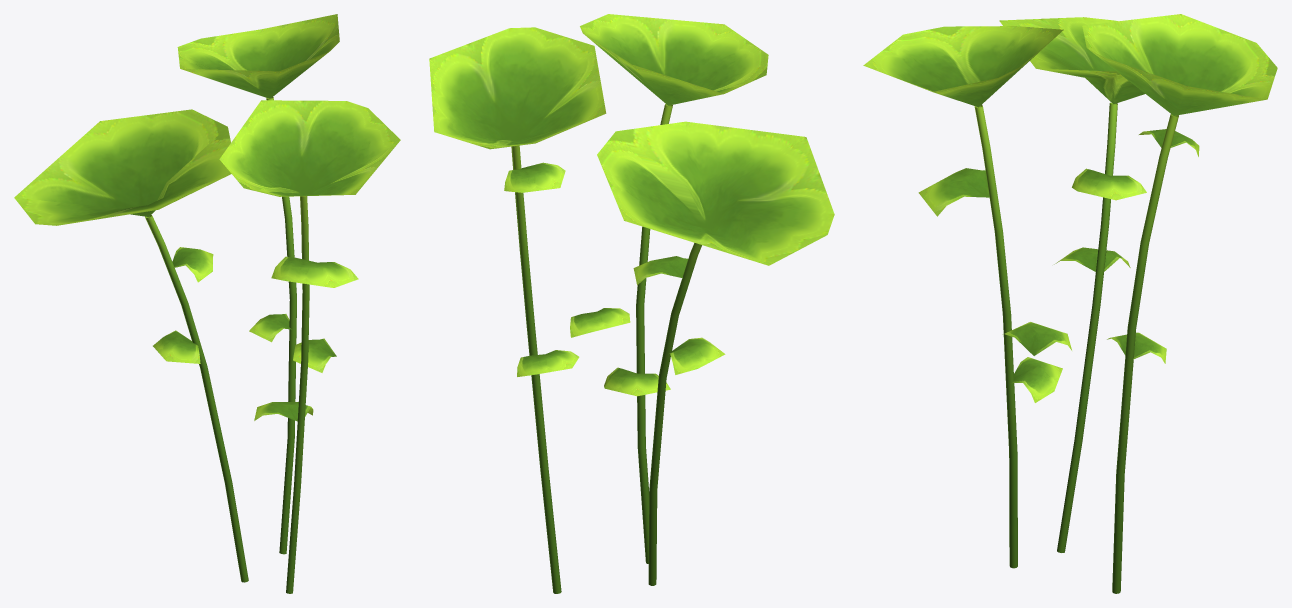
File: jardin_trebol.obj
3 renders of one model, left to right at view 1: azimuth 30°, elevation 25°; view 2: azimuth 150°, elevation 25°; view 3: azimuth 270°, elevation 25°, orthographic. The views are drawn at different scales.
Parts seen in each view (by area): view 1: jardin_trebol; view 2: jardin_trebol; view 3: jardin_trebol.
Boxes of the visible parts, <box> form: jardin_trebol: <box>14,14,400,593</box>; jardin_trebol: <box>429,14,834,593</box>; jardin_trebol: <box>863,14,1277,593</box>.
Size of the model in its own units: 0.7963 by 1.14 by 0.7639.
